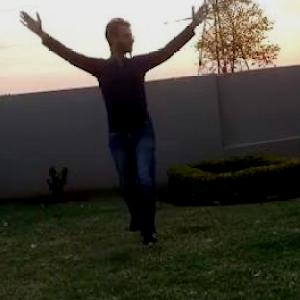takeoff: (10, 9, 206, 233)
